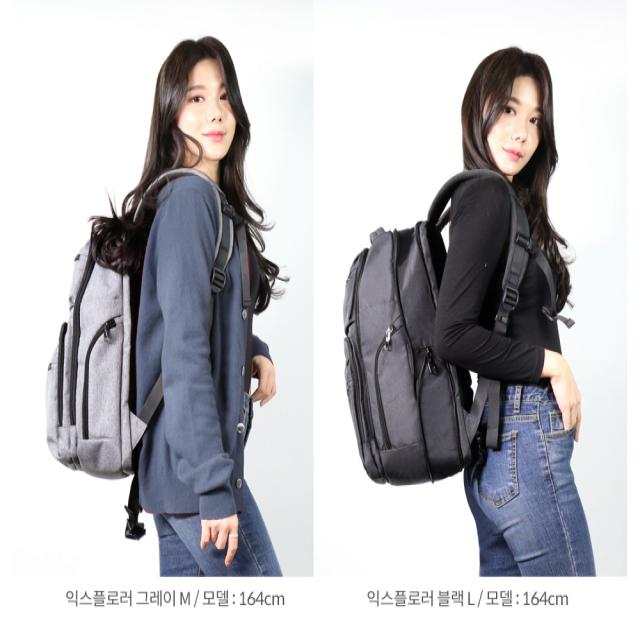backpack: (331, 211, 494, 488), (48, 191, 178, 486)
